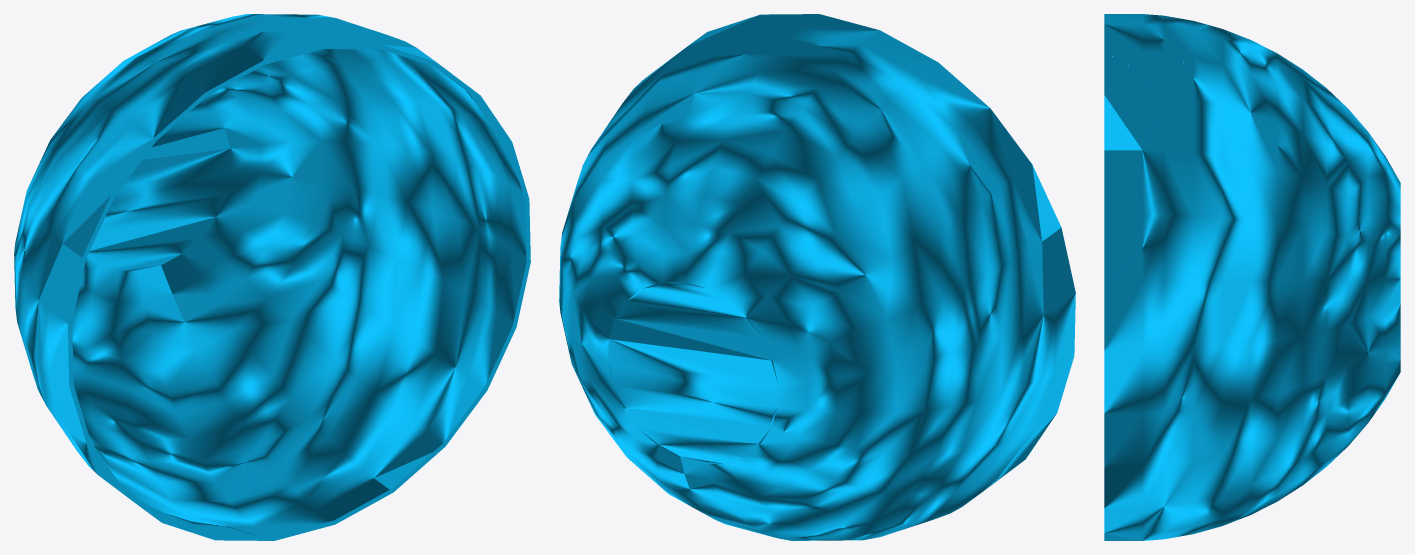
File: model_align.obj
3 renders of one model, left to right at view 1: azimuth 30°, elevation 25°; view 2: azimuth 150°, elevation 25°; view 3: azimuth 270°, elevation 25°, orthographic. The views are drawn at different scales.
Size of the model in its own units: 0.1492 by 0.1492 by 0.0844.
